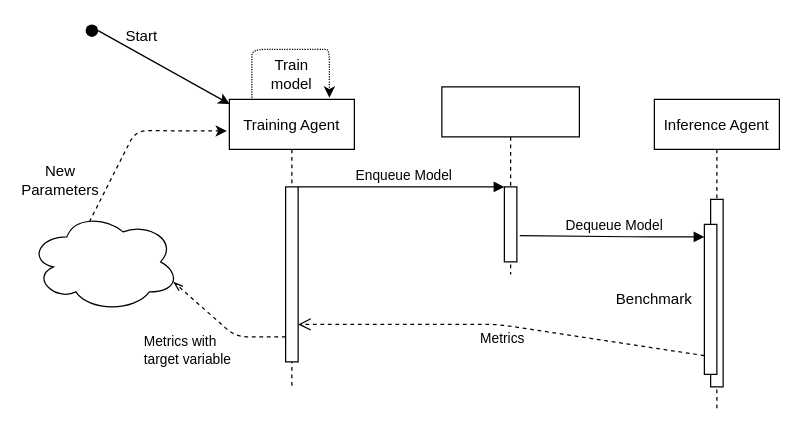
Image size: 801x434. Some labels were removed from this diagram. Here are the shapes that lost their labels. From the top down, the box of each, then its label:
(441, 86, 579, 274): FIFO Queue
(28, 211, 179, 312): Weights & Biases
